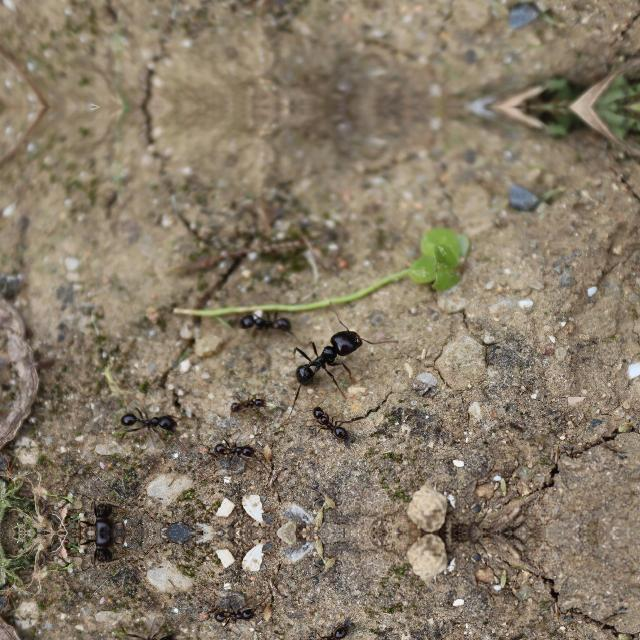Messor: (268, 331, 372, 391), (115, 405, 185, 443), (306, 399, 354, 446), (232, 299, 290, 335), (208, 432, 258, 466), (208, 599, 258, 633), (115, 622, 185, 640), (306, 618, 353, 640), (230, 390, 266, 416)
